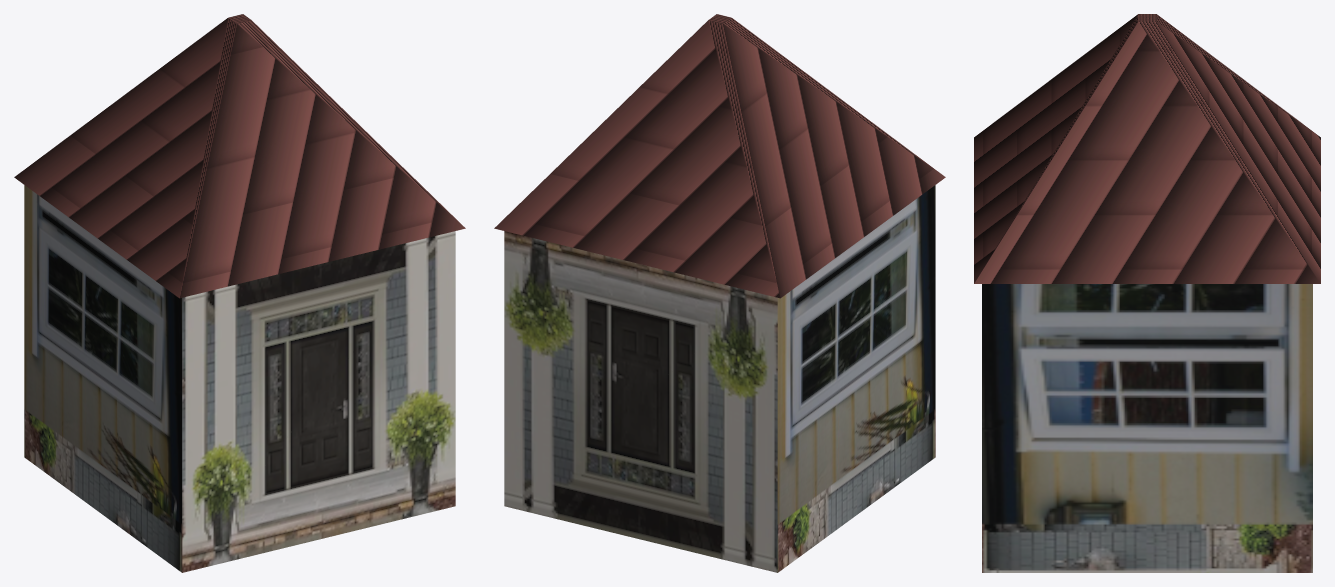
The model's file is house.glb.
3 renders of one model, left to right at view 1: azimuth 30°, elevation 25°; view 2: azimuth 150°, elevation 25°; view 3: azimuth 270°, elevation 25°, orthographic. The views are drawn at different scales.
Parts seen in each view (by area): view 1: Cube; view 2: Cube; view 3: Cube.
Boxes of the visible parts, <box> form: Cube: <box>14,14,465,572</box>; Cube: <box>494,14,945,572</box>; Cube: <box>974,14,1320,572</box>.
Size of the model in its own units: 2.1 by 3.24 by 2.1.
Materials: 2 (2 with a texture image).
